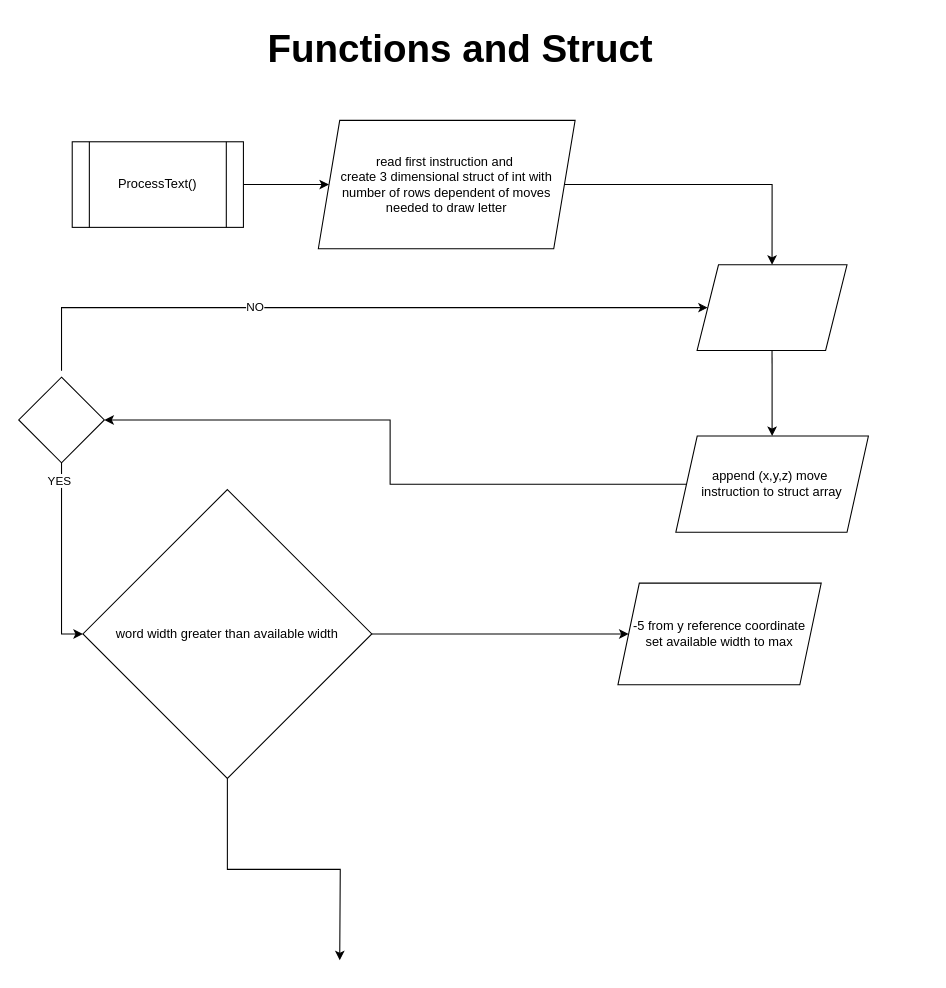
The diagram is 946 pixels wide and 988 high, and some of its shapes have lost their labels. The centre of each missing label's shape, as x and y in pixels:
end of word ?: pixel 61 419
read next instruction and increment WordWidth: pixel 771 307
